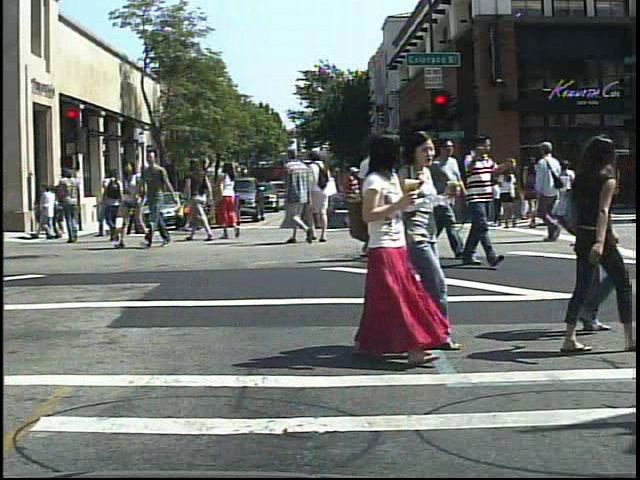person: (335, 124, 430, 374), (547, 128, 638, 361), (564, 134, 622, 337), (456, 131, 514, 272), (396, 125, 445, 277), (363, 133, 413, 266), (420, 134, 468, 260), (530, 133, 575, 249), (139, 147, 179, 253), (282, 142, 318, 245), (116, 159, 151, 252), (186, 153, 217, 247), (217, 155, 247, 244), (310, 147, 335, 246), (57, 167, 87, 245), (495, 161, 523, 231), (102, 166, 124, 244), (342, 161, 362, 230)
